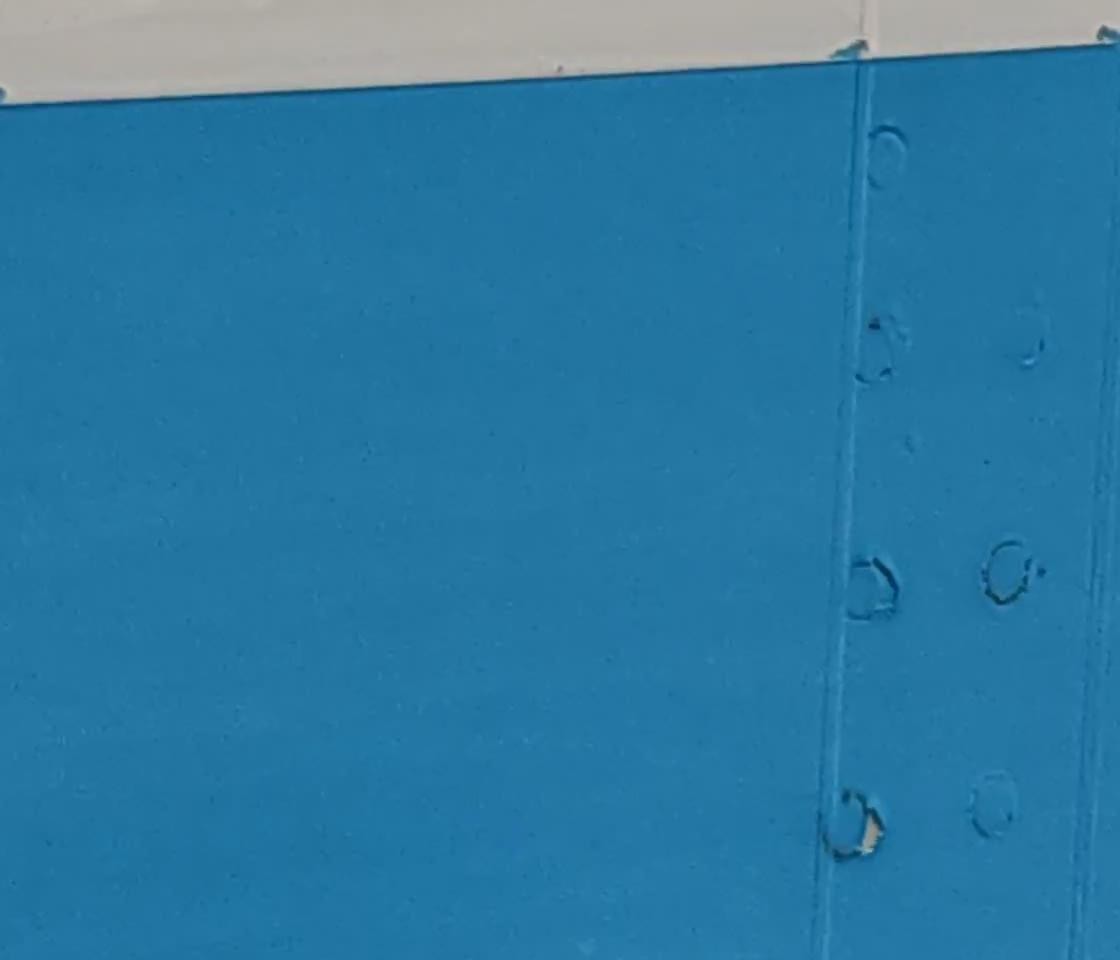paint_peel: (850, 796, 891, 863)
